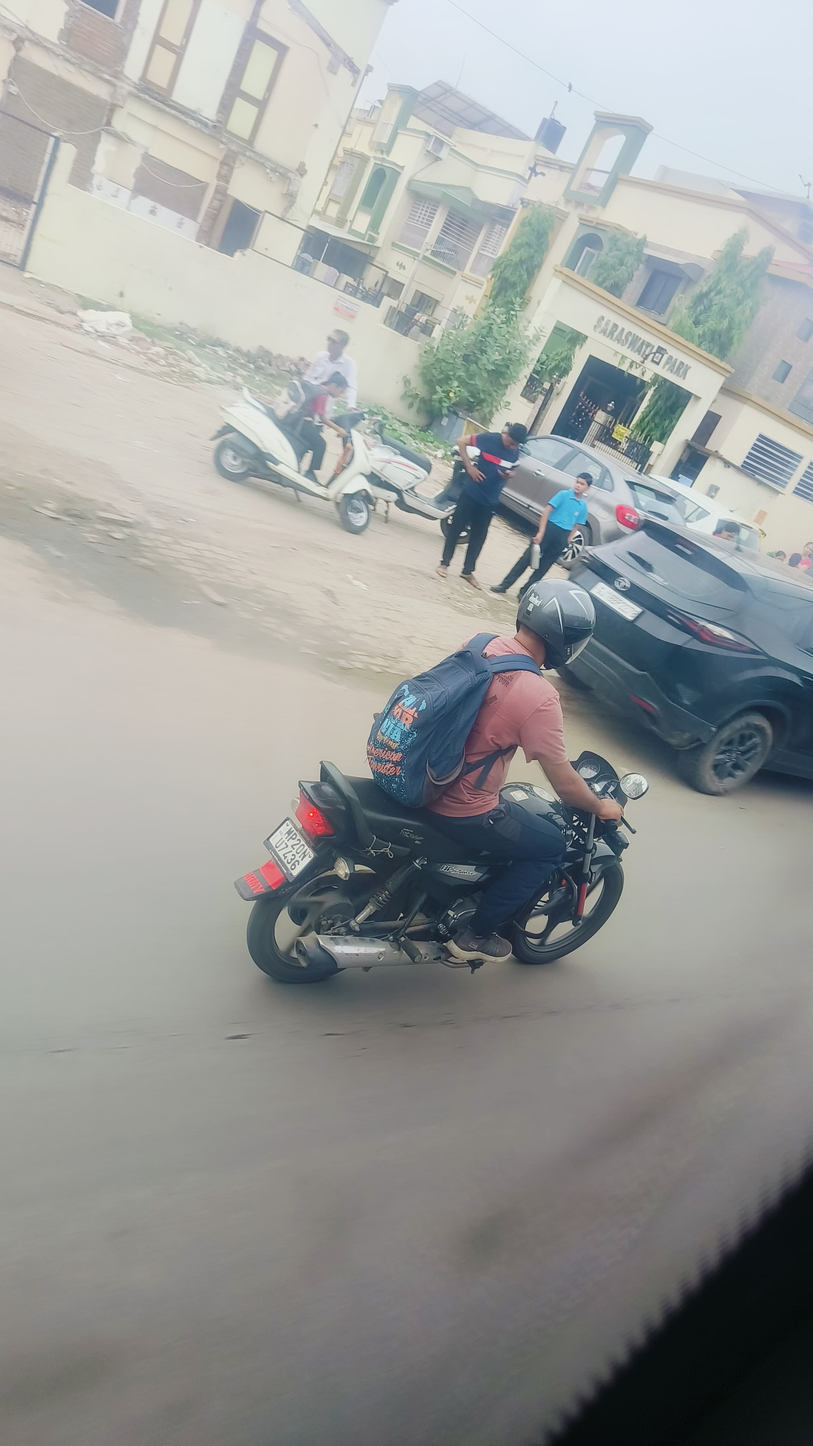BikeWithRider: (223, 574, 657, 989), (203, 359, 380, 543)
Helmet: (515, 574, 601, 680)
NoHelmet: (317, 367, 354, 402)
